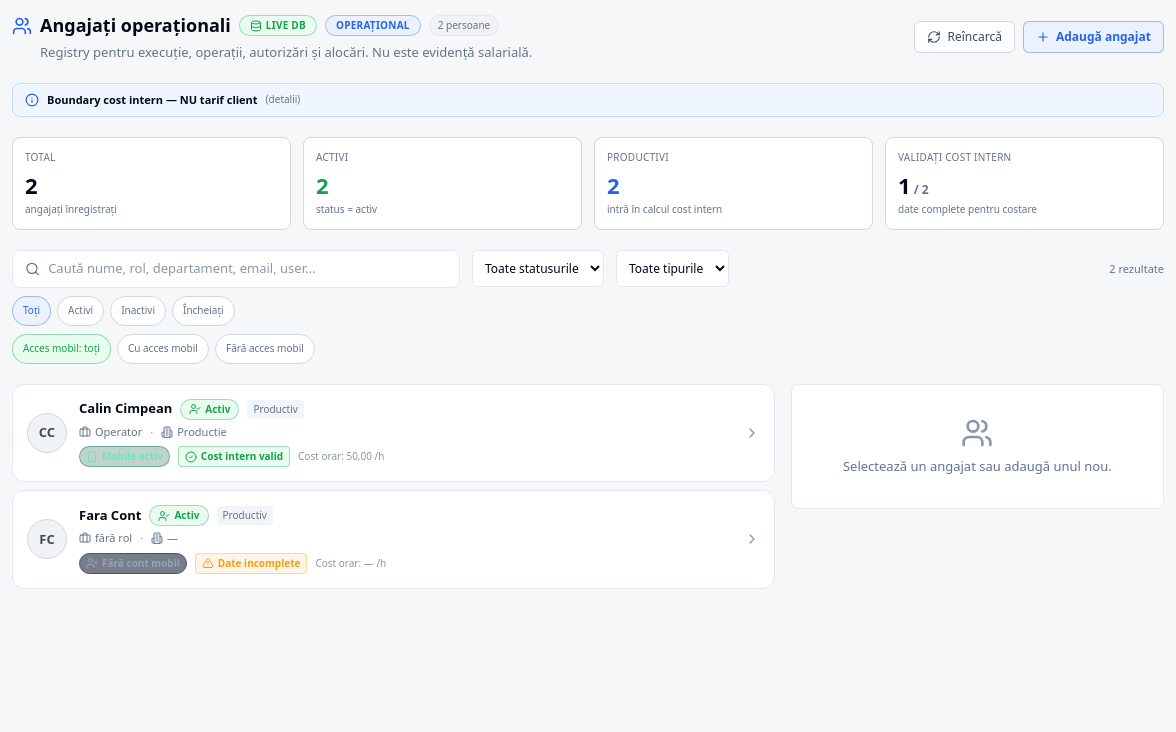
Test: Employees operational admin UI › filters employees without mobile access
Expected: the element with test id "employees-list-item-2" is shown, [12, 490, 775, 588]
Click the button with test id "employees-quick-mobile-filter-no_mobile" at [265, 348], box [215, 334, 315, 364]
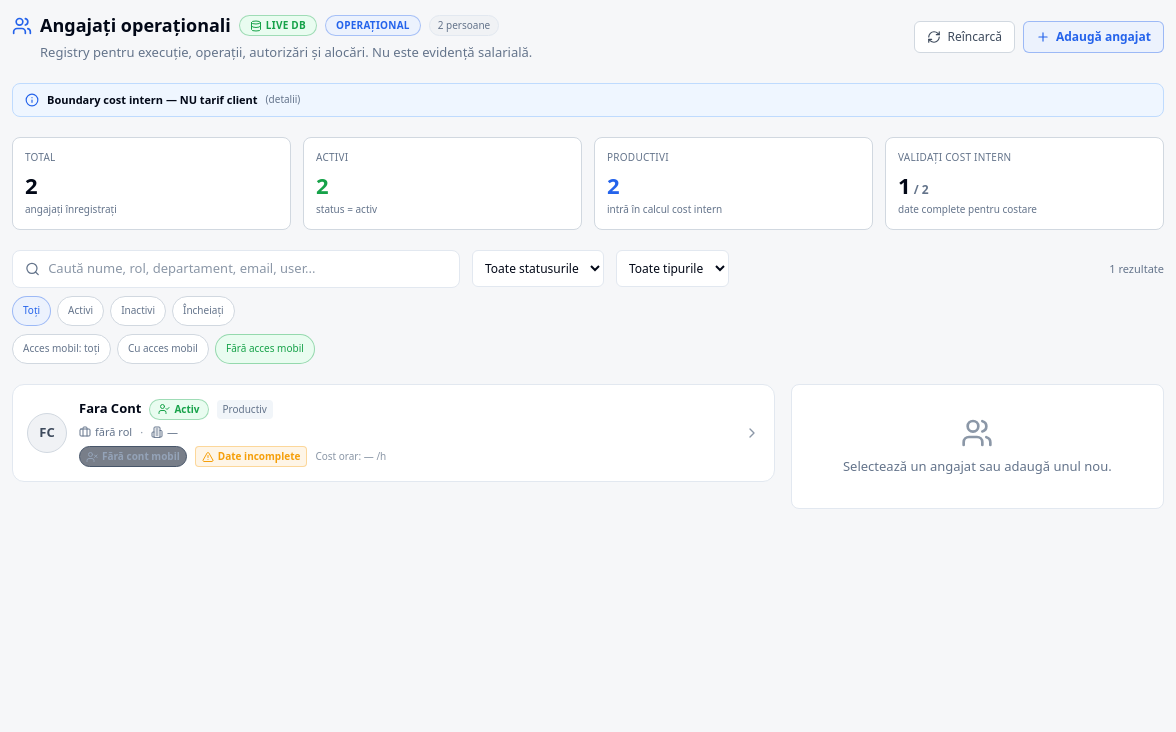
Expected: the element with test id "employees-list-item-2" is shown, [12, 384, 775, 482]
Result: the element with test id "employees-list-item-1" is gone
